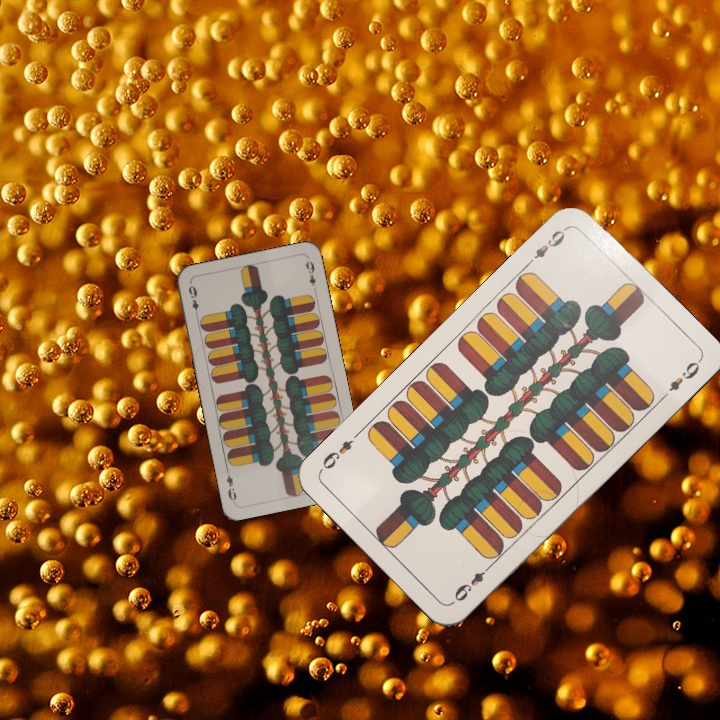E9: (449, 560, 495, 606), (523, 223, 570, 268), (184, 279, 201, 320)
